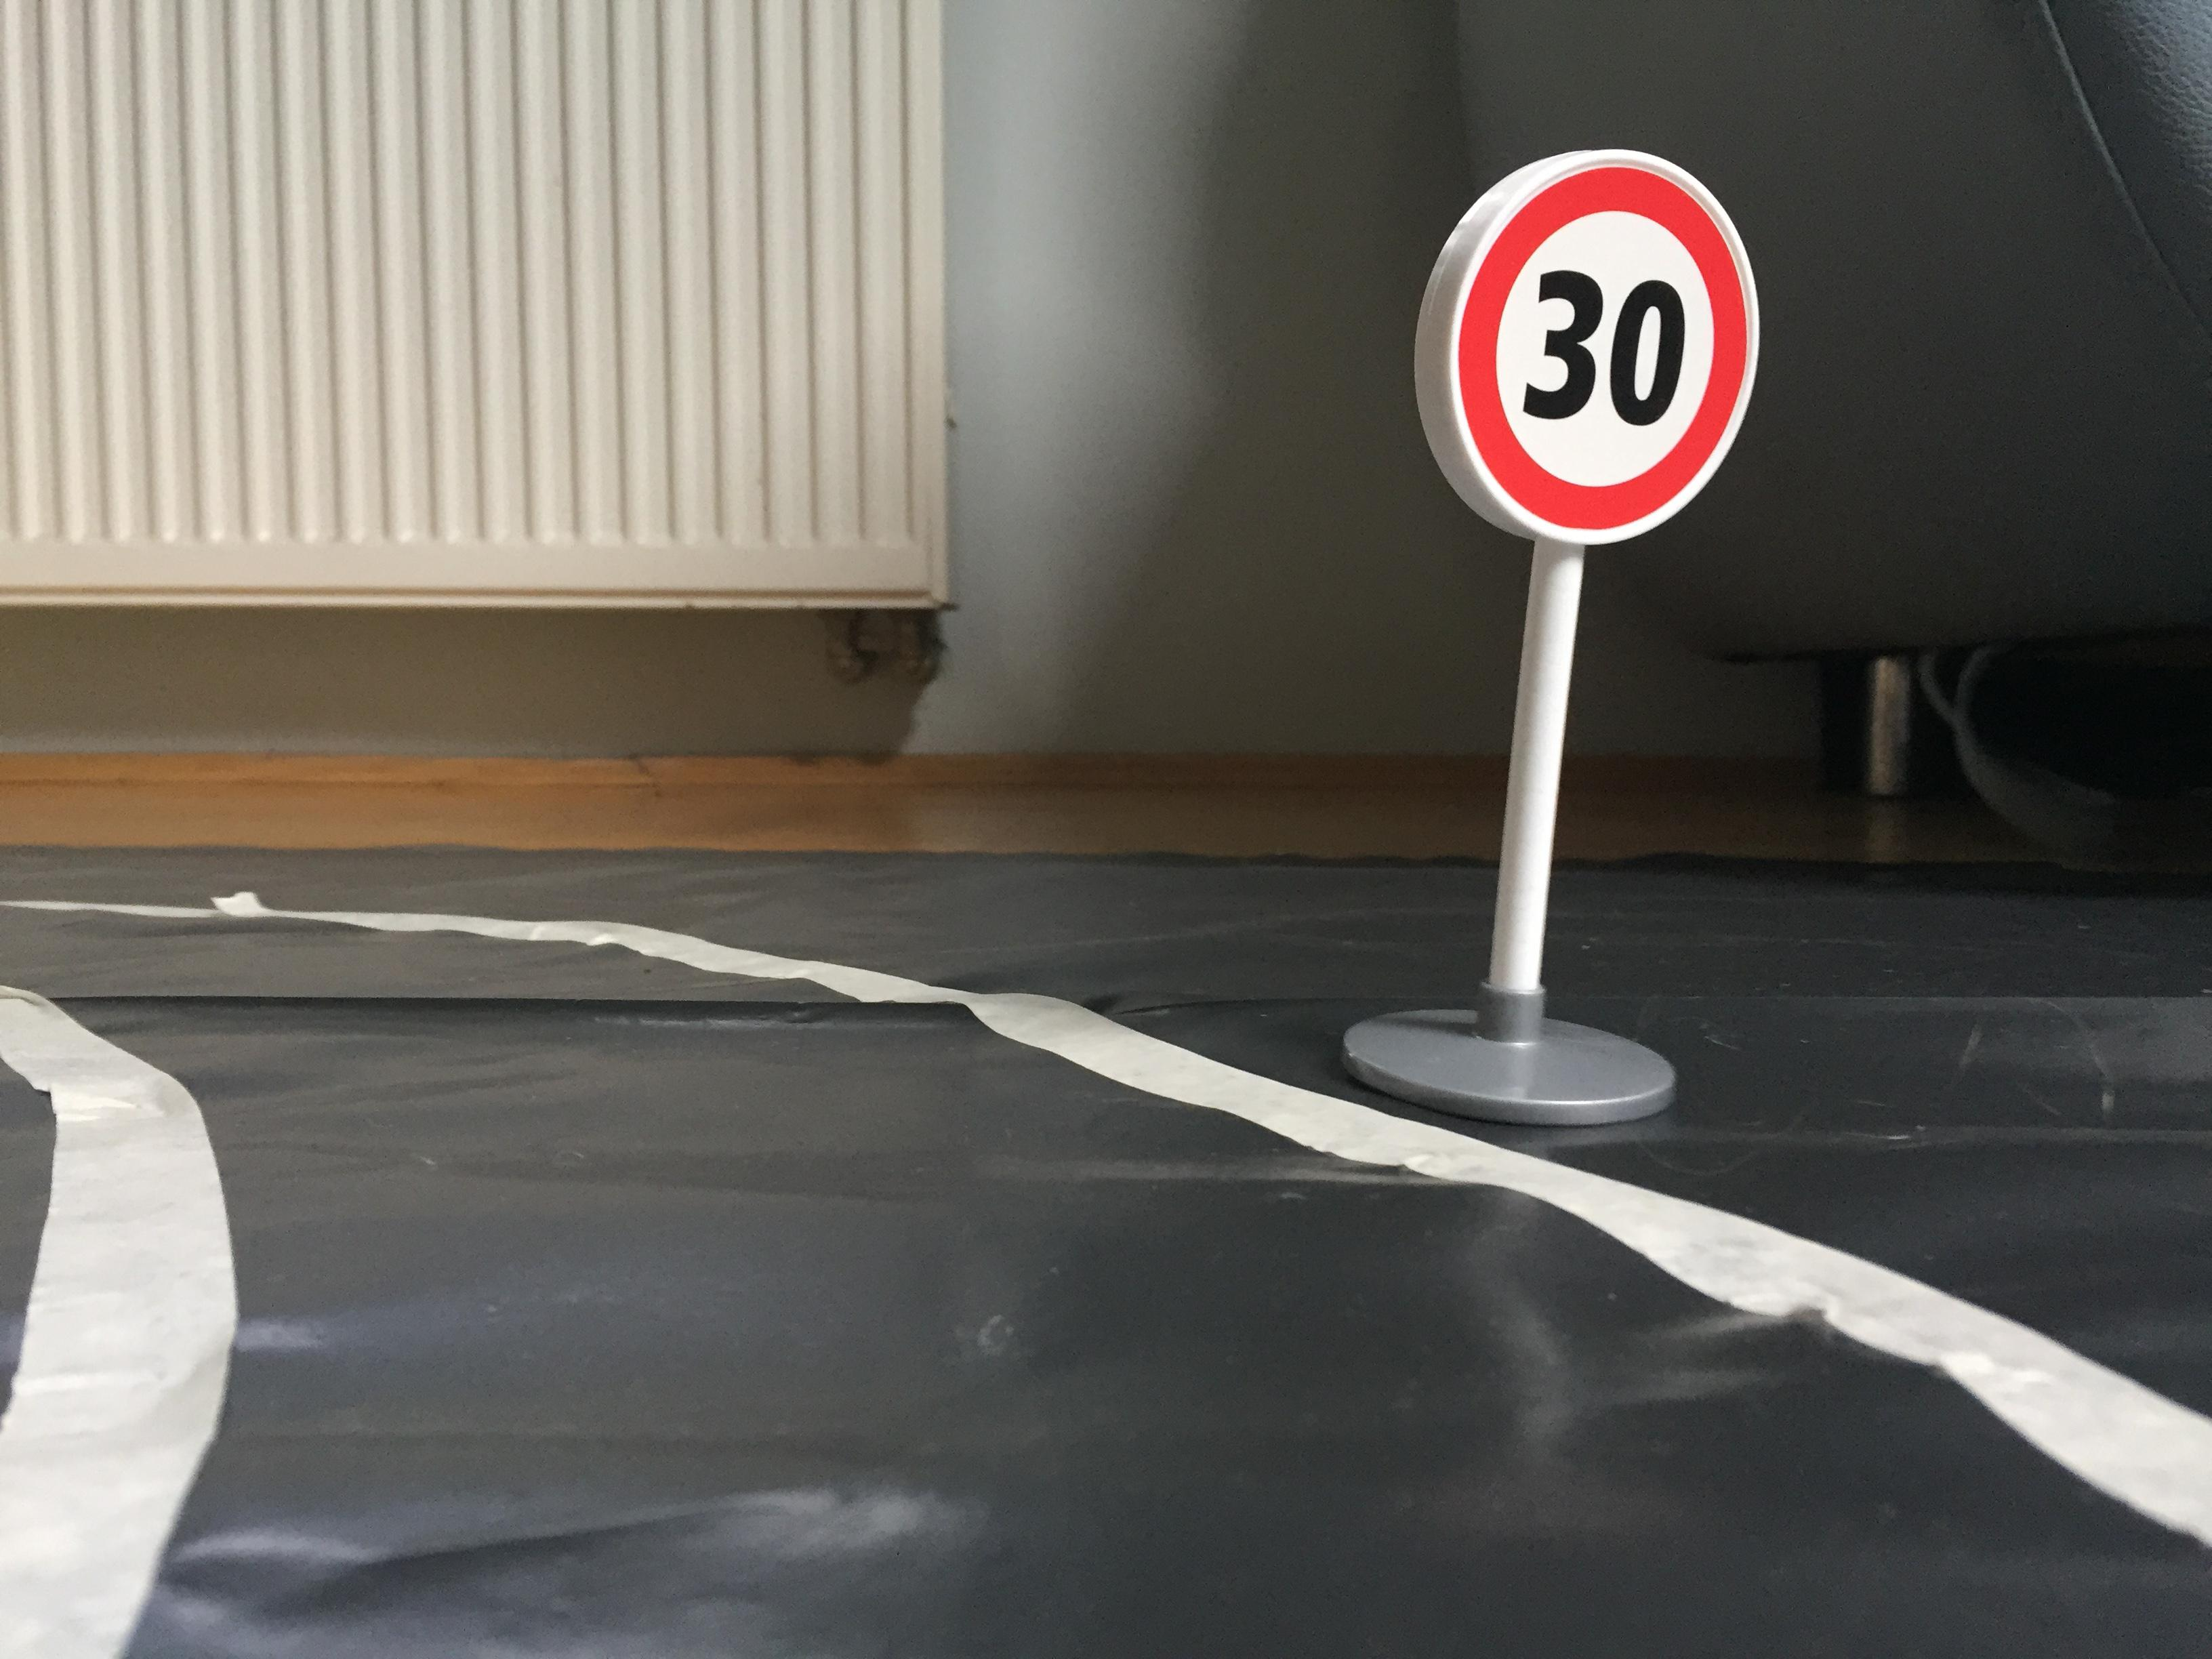speed: (1404, 139, 1780, 561)
